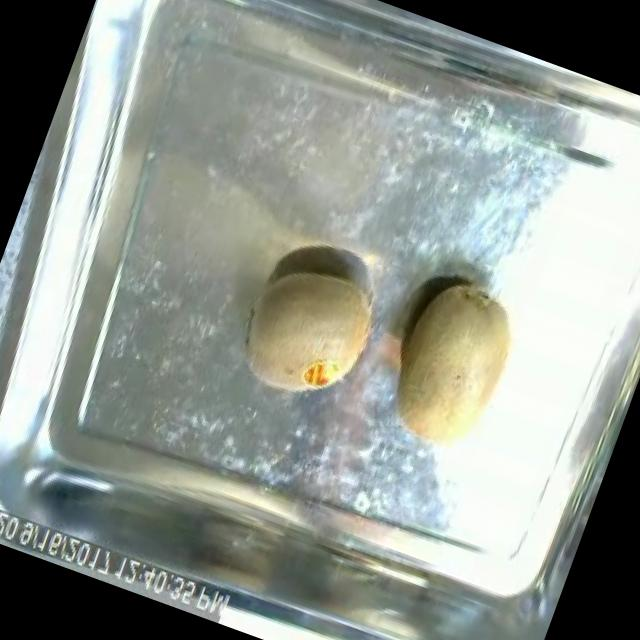Fruit: (366, 262, 542, 470), (223, 244, 397, 423)
